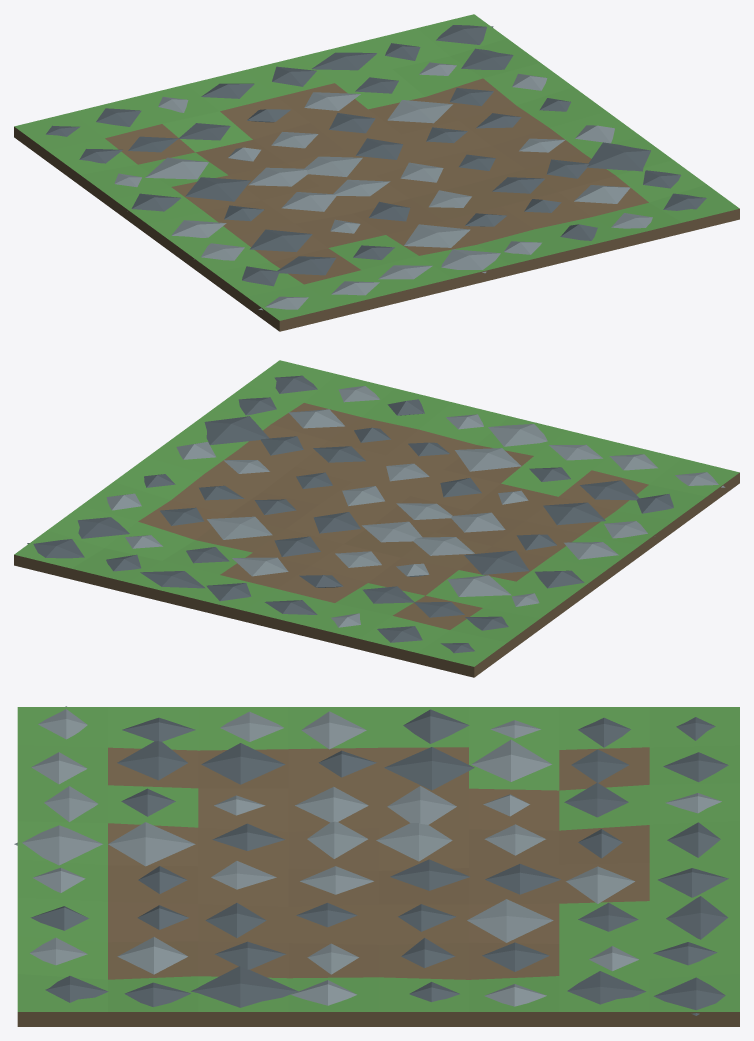
File: path_cobble.glb
3 renders of one model, top to bottom at view 1: azimuth 30°, elevation 25°; view 2: azimuth 150°, elevation 25°; view 3: azimuth 270°, elevation 25°, orthographic. The views are drawn at different scales.
Parts seen in each view (by area): view 1: path_cobble.001; view 2: path_cobble.001; view 3: path_cobble.001.
Part boxes in pixels (x1,y1,x2,y2): path_cobble.001: [14, 14, 739, 331]; path_cobble.001: [14, 360, 739, 677]; path_cobble.001: [14, 706, 739, 1026].
Bounding box in the file's own units: 2.03 × 0.0736 × 2.01.
